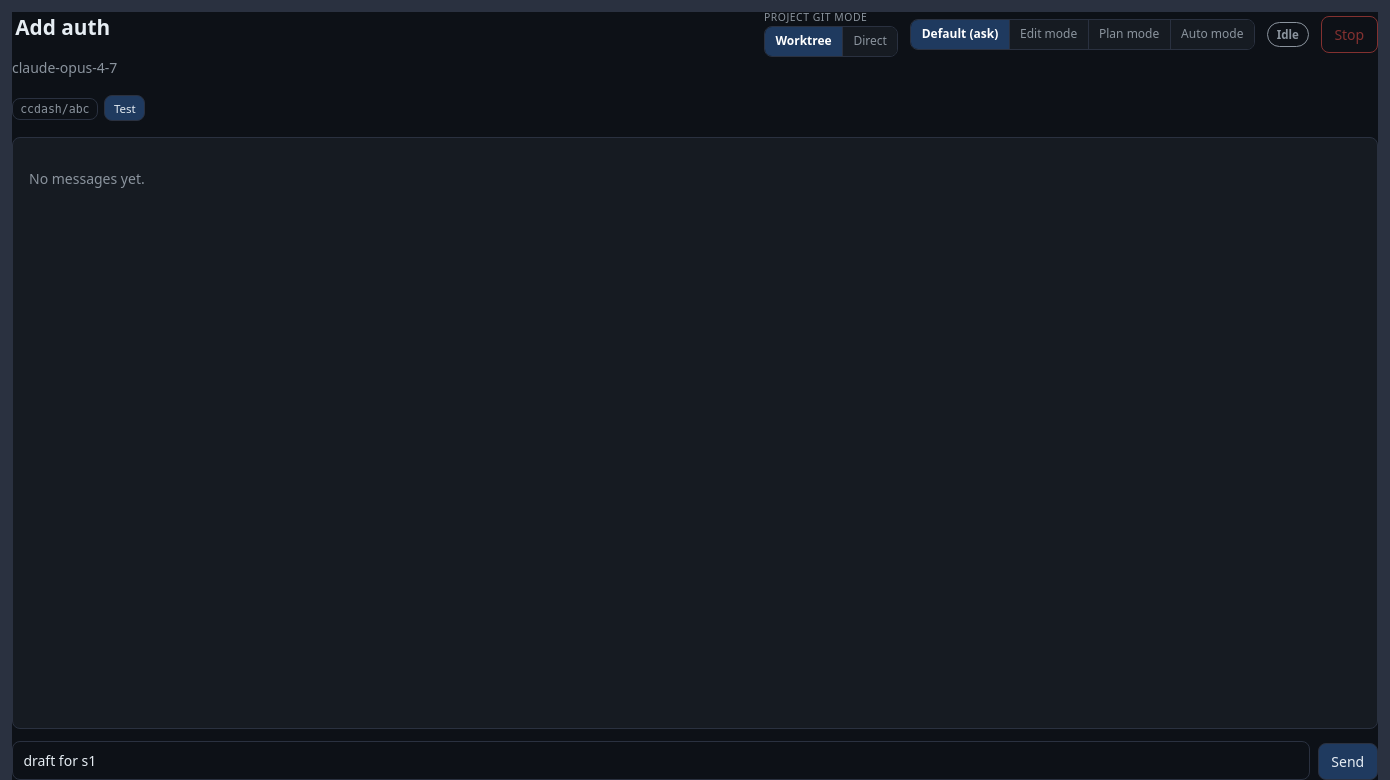
Test: SessionView preview flow › Test button POSTs preview immediately and swaps to Accept/Cancel
Click the button "Test". click: (125, 108)
box: [104,95,146,121]
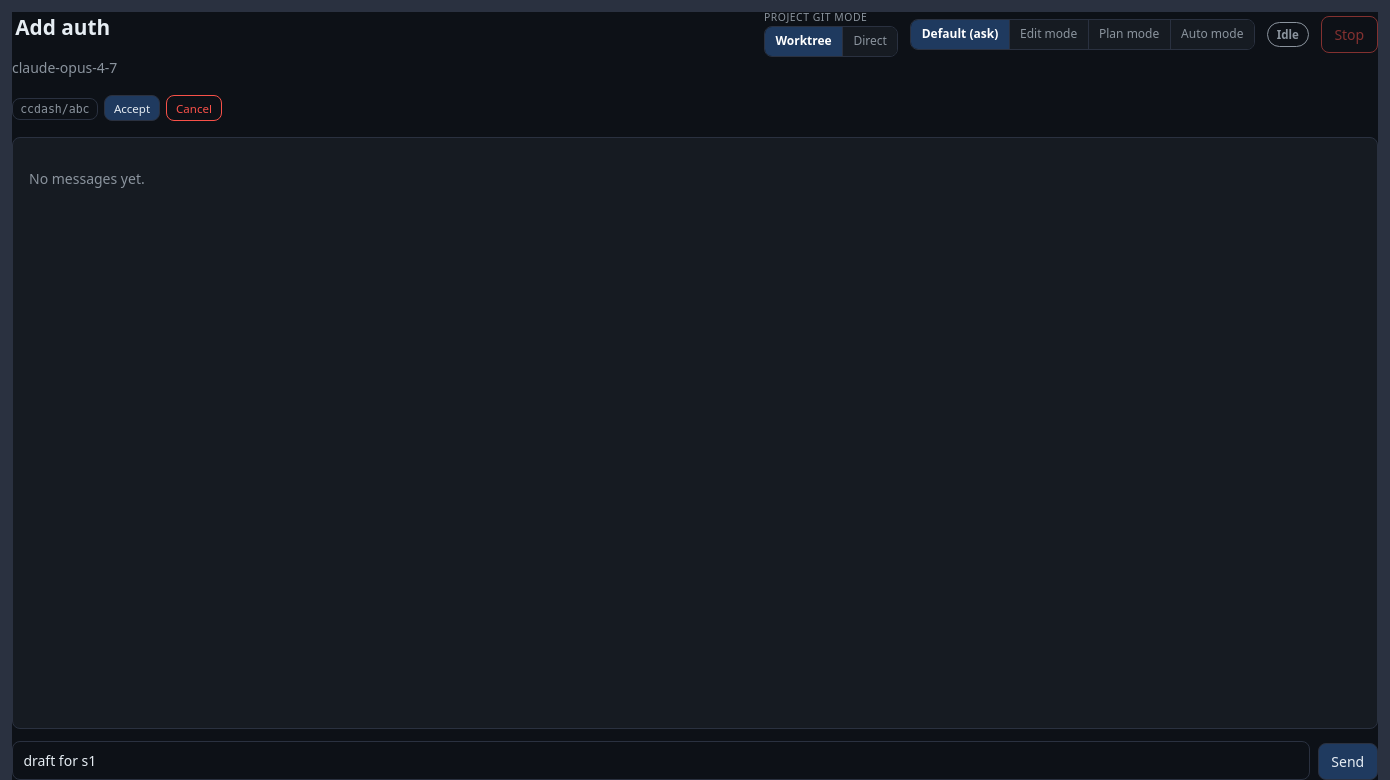
Check: the button "Accept" is shown, box [104,95,160,121]
Check: the button "Test" is gone
